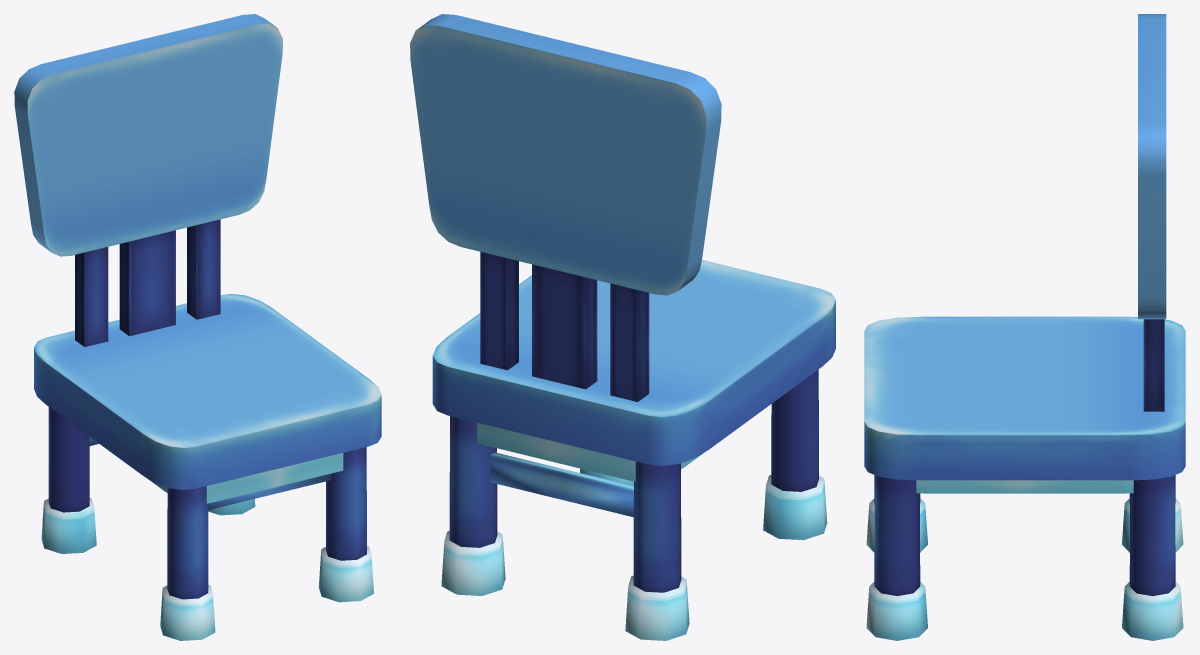
File: BlueChair_HD.fbx
The picture shows the model from 3 angles, left to right: view 1: azimuth 30°, elevation 25°; view 2: azimuth 150°, elevation 25°; view 3: azimuth 270°, elevation 25°; orthographic projection. The views are drawn at different scales.
Parts seen in each view (by area): view 1: BlueChair; view 2: BlueChair; view 3: BlueChair.
Part boxes in pixels (left/top/right/bottom): BlueChair: left=14, top=14, right=381, bottom=640; BlueChair: left=410, top=14, right=835, bottom=640; BlueChair: left=864, top=14, right=1185, bottom=640.
Bounding box in the file's own units: 0.5367 × 0.962 × 0.5439.
